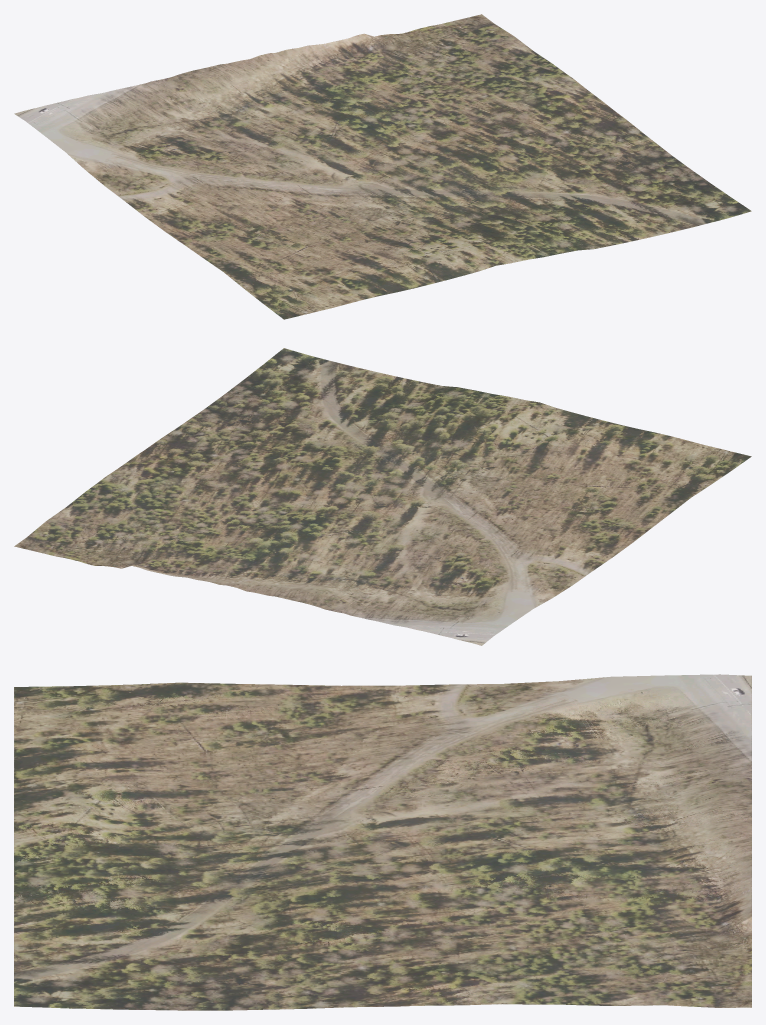
Rendered from CM_Terrain_24492711_6814264.fbx.
3 views of the same model, one above another, from view 1: azimuth 30°, elevation 25°; view 2: azimuth 150°, elevation 25°; view 3: azimuth 270°, elevation 25° (orthographic). The views are drawn at different scales.
Visible parts, largest first — view 1: CM_Terrain_24492711_6814264_LOD0; view 2: CM_Terrain_24492711_6814264_LOD0; view 3: CM_Terrain_24492711_6814264_LOD0.
Part boxes in pixels (x1=…): CM_Terrain_24492711_6814264_LOD0: x1=14, y1=14, x2=751, y2=319; CM_Terrain_24492711_6814264_LOD0: x1=14, y1=348, x2=751, y2=645; CM_Terrain_24492711_6814264_LOD0: x1=14, y1=674, x2=751, y2=1010.
Size of what is drawn, in the model's own units: 205 by 7.4 by 205.
